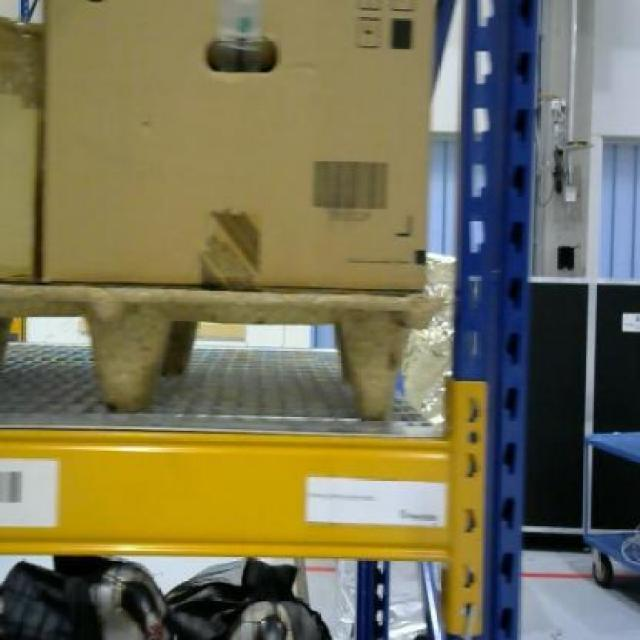box: (40, 0, 427, 292)
